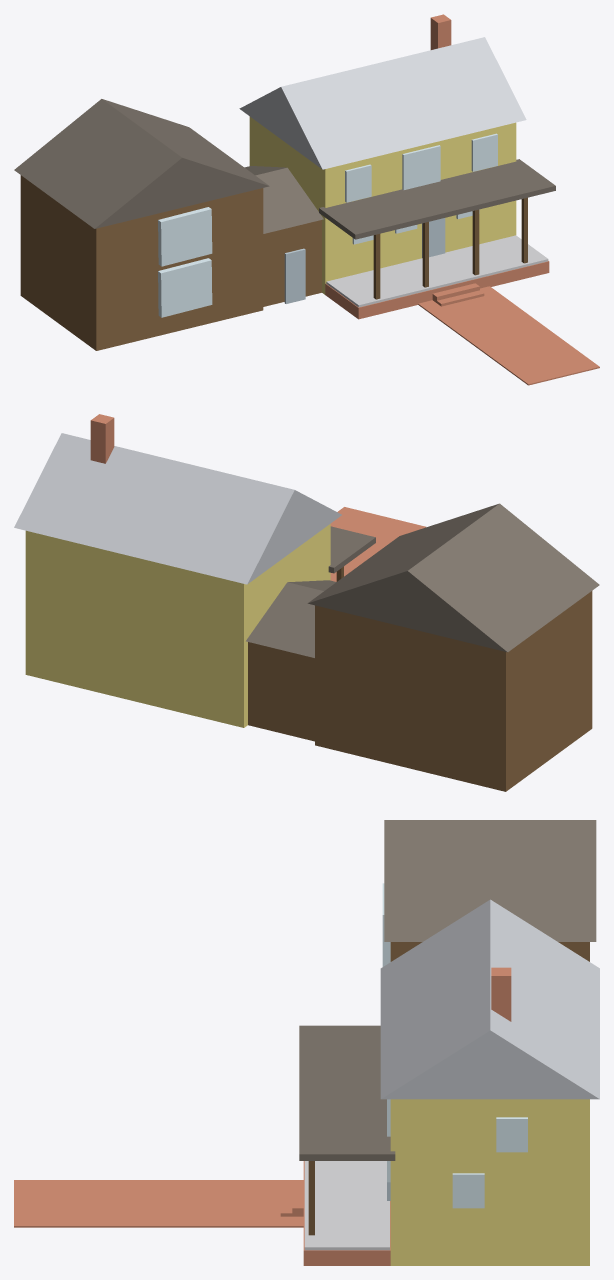
Rendered from bondstreet.glb.
The picture shows the model from 3 angles, top to bottom: view 1: azimuth 30°, elevation 25°; view 2: azimuth 150°, elevation 25°; view 3: azimuth 270°, elevation 25°; orthographic projection. The views are drawn at different scales.
Visible parts, largest first — view 1: Addition, MainRoof, AdditionRoof, MainBody, PorchRoof, BrickPath, PorchDeck, Connector, ConnectorRoof, AddWinFront, AddWinFront.001, PorchBrick (+8 smaller); view 2: Addition, MainBody, MainRoof, AdditionRoof, Connector, ConnectorRoof, BrickPath, PorchRoof, Chimney; view 3: MainRoof, MainBody, AdditionRoof, BrickPath, PorchRoof, PorchDeck, PorchBrick, WinR-1_2, WinR+1_4, Chimney, Addition.
Part boxes in pixels (x1,y1,x2,y2): Addition: (20,175,263,350); MainRoof: (239,37,526,169); AdditionRoof: (14,99,269,228); MainBody: (249,116,516,294); PorchRoof: (319,159,555,239); BrickPath: (418,286,599,385); PorchDeck: (326,235,548,307); Connector: (263,220,321,306); ConnectorRoof: (244,166,323,233); AddWinFront: (158,207,212,266); AddWinFront.001: (158,258,212,317); PorchBrick: (325,261,549,319); Addition: (315,591,592,791); MainBody: (25,524,330,727); MainRoof: (14,433,341,584); AdditionRoof: (307,503,599,652); Connector: (248,642,314,741); ConnectorRoof: (246,580,336,657); BrickPath: (330,507,425,581); PorchRoof: (328,526,375,573); Chimney: (90,414,114,463); MainRoof: (380,899,599,1099); MainBody: (390,1099,589,1265); AdditionRoof: (384,820,596,941); BrickPath: (14,1180,303,1227); PorchRoof: (299,1025,395,1160); PorchDeck: (304,1161,389,1250); PorchBrick: (303,1161,390,1265); WinR-1_2: (452,1173,484,1208); WinR+1_4: (496,1117,527,1152); Chimney: (491,967,511,1021); Addition: (390,942,589,961).
Size of what is drawn, in the model's own units: 18.05 by 8.3 by 16.17.
